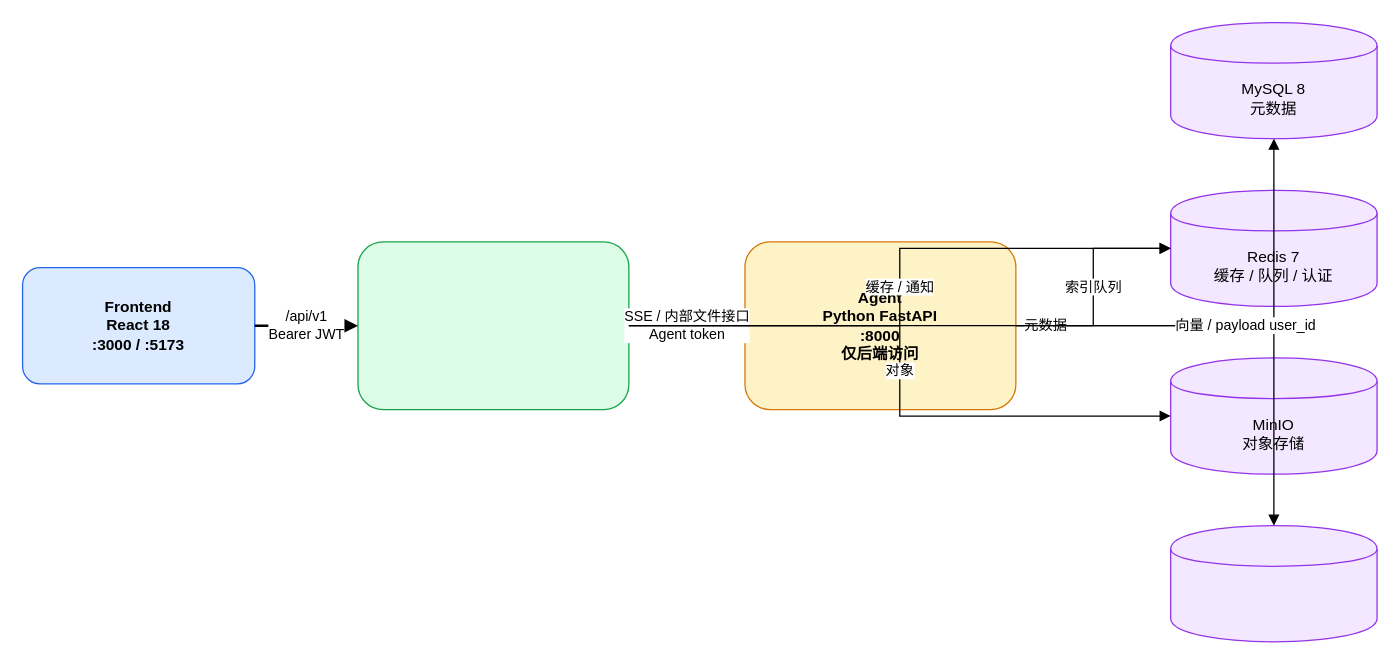
This 1400x664 diagram has some shape labels left out. Here are the shapes that lost their labels. From the top down, the centre of each, then its label:
the point at 493,325: Backend Java Spring Boot :8080
the point at 1273,583: Qdrant 向量索引
